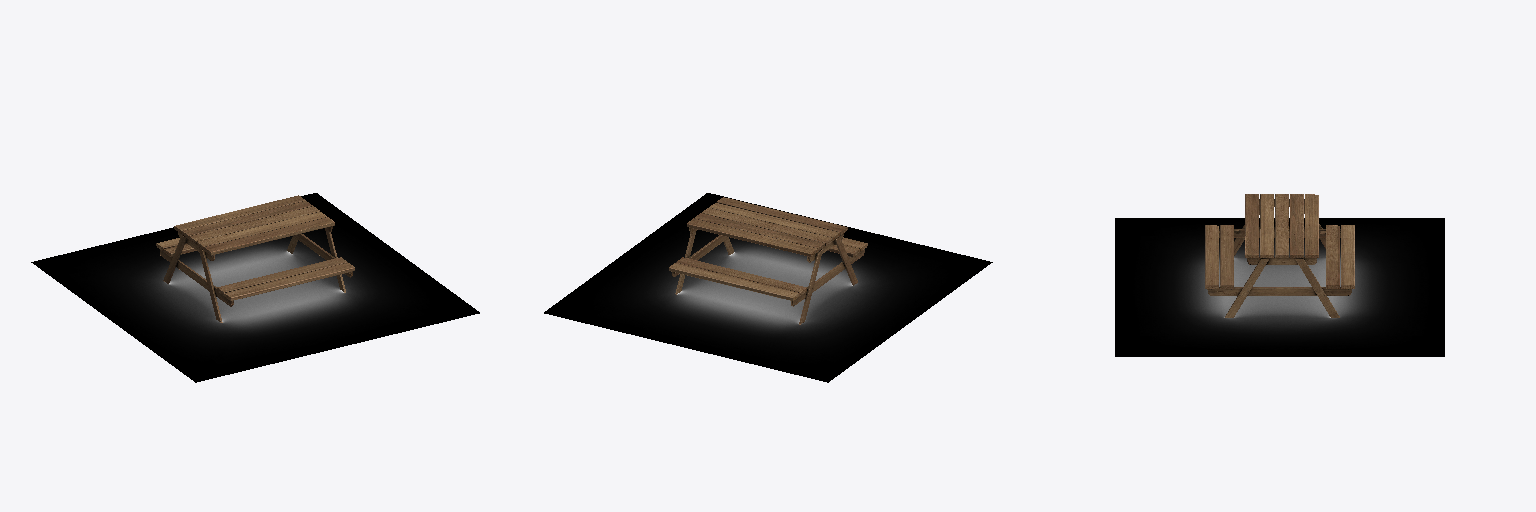
3 renders of one model, left to right at view 1: azimuth 30°, elevation 25°; view 2: azimuth 150°, elevation 25°; view 3: azimuth 270°, elevation 25°, orthographic.
Parts seen in each view (by area): view 1: object 1, object 2; view 2: object 1, object 2; view 3: object 1, object 2.
Boxes of the visible parts, x1,y1,x2,y2 form: object 1: [31, 193, 479, 382]; object 2: [156, 195, 354, 322]; object 1: [544, 193, 992, 382]; object 2: [669, 197, 867, 324]; object 1: [1115, 218, 1444, 356]; object 2: [1205, 194, 1354, 317].
Bounding box in the file's own units: 2.5 × 0.5303 × 2.5.
Materials: 2 (2 with a texture image).